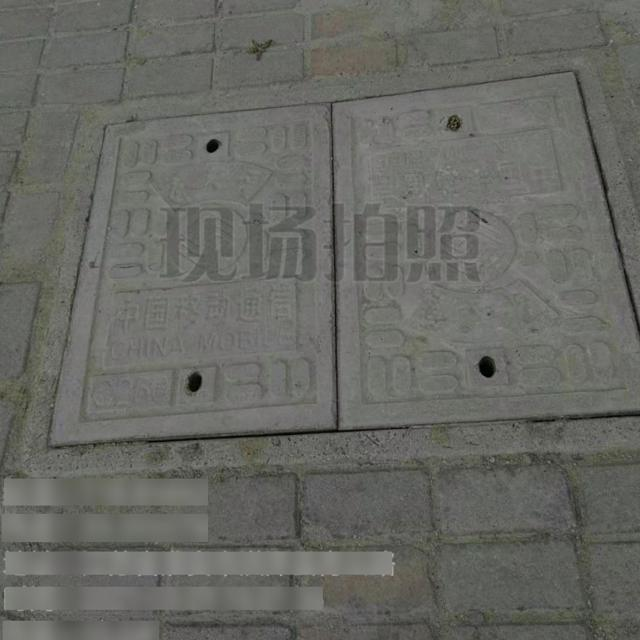good: (16, 55, 640, 476)
